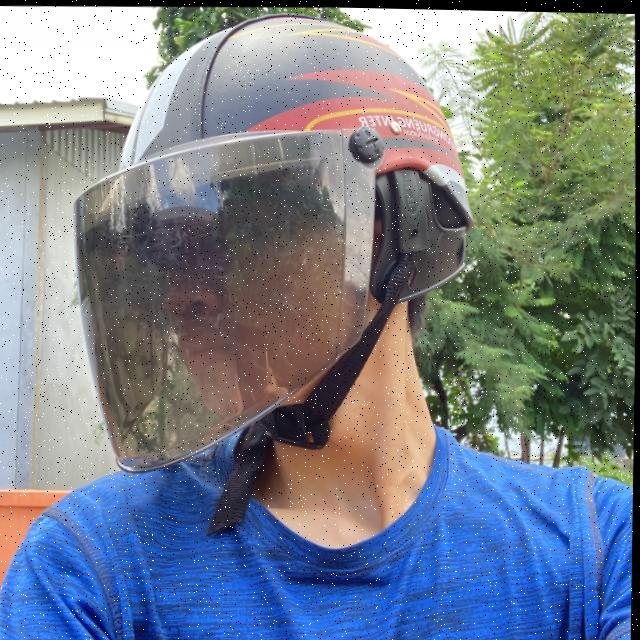helmet: (57, 1, 492, 487)
